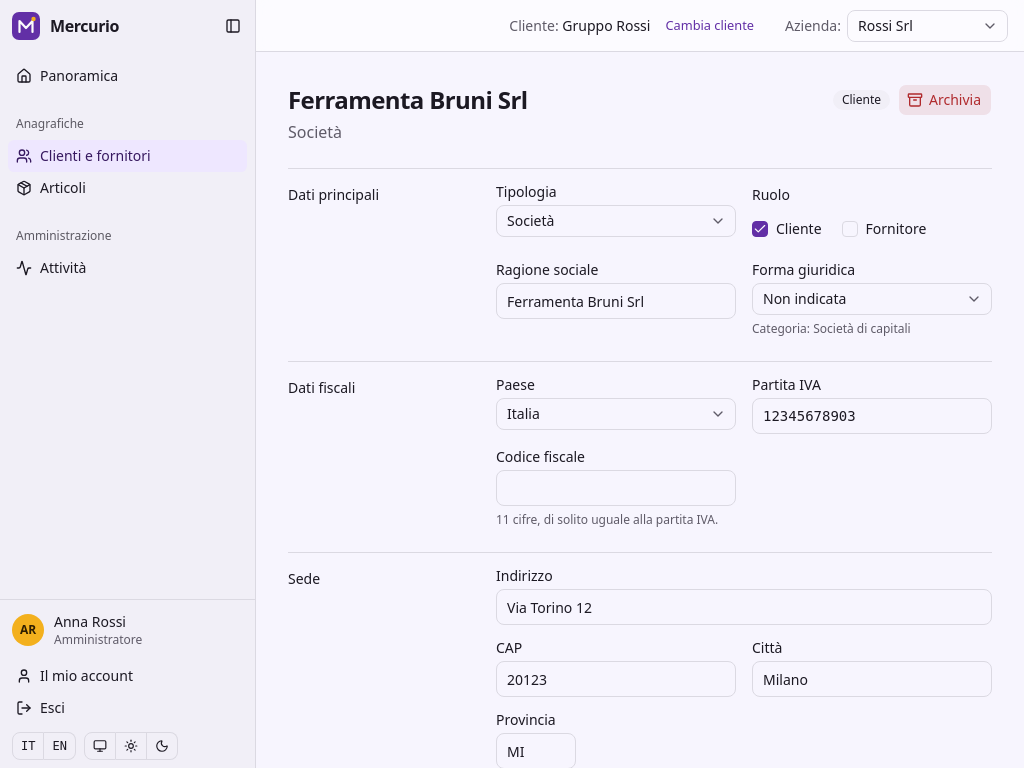
Test: party record › reports a conflicting edit and reloads the latest version on request
Replace the text in the field labelled "Città" with "Bergamo" at (872, 679), box [752,661,992,697]
(page scrolled)
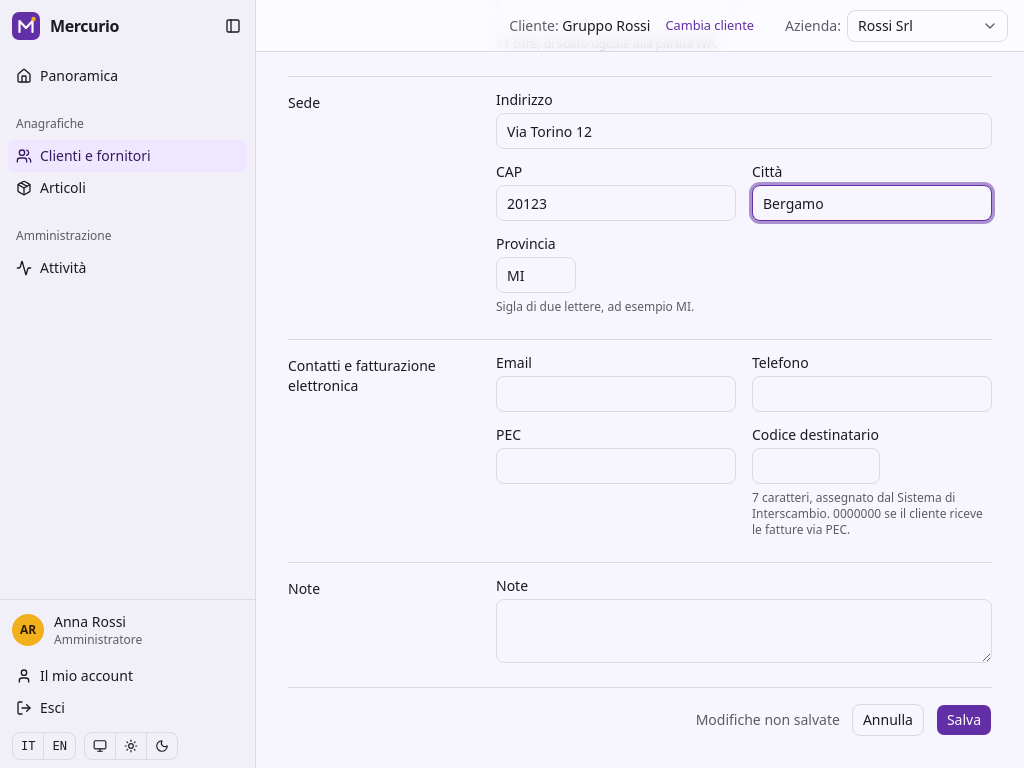
Click the button "Salva" at (964, 720), box [936,704,992,736]
(page scrolled)
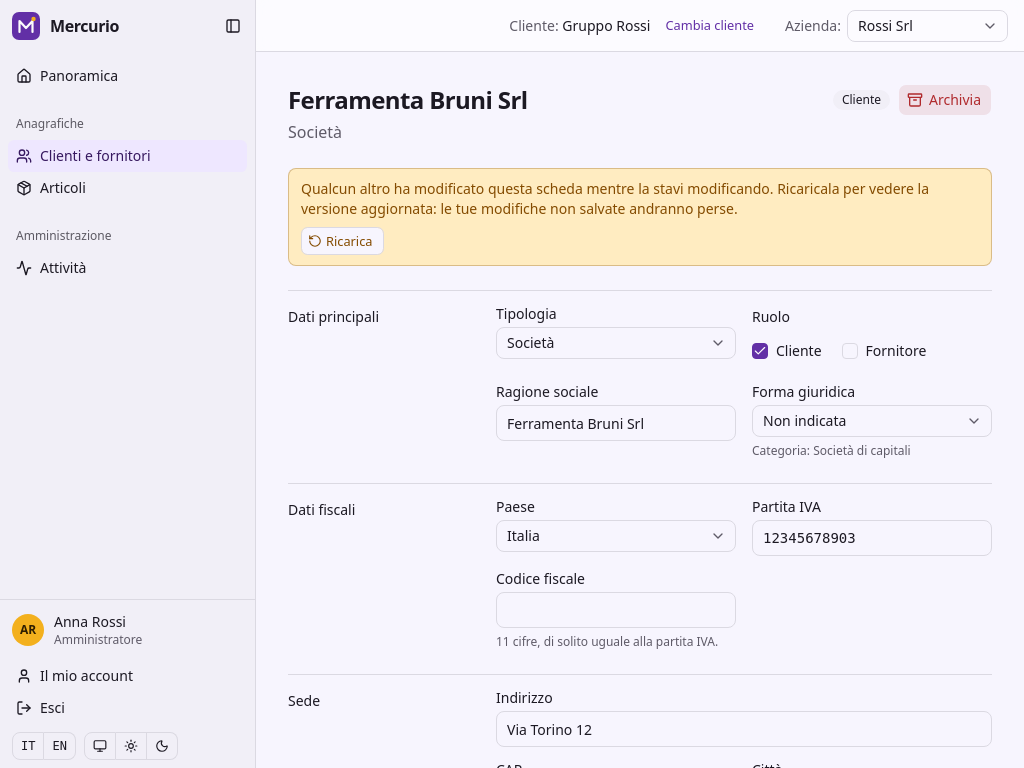
Check: the text "Qualcun altro ha modificato" is shown, box [301,179,929,218]
Click the button "Ricarica" at (342, 241), box [301,227,384,255]
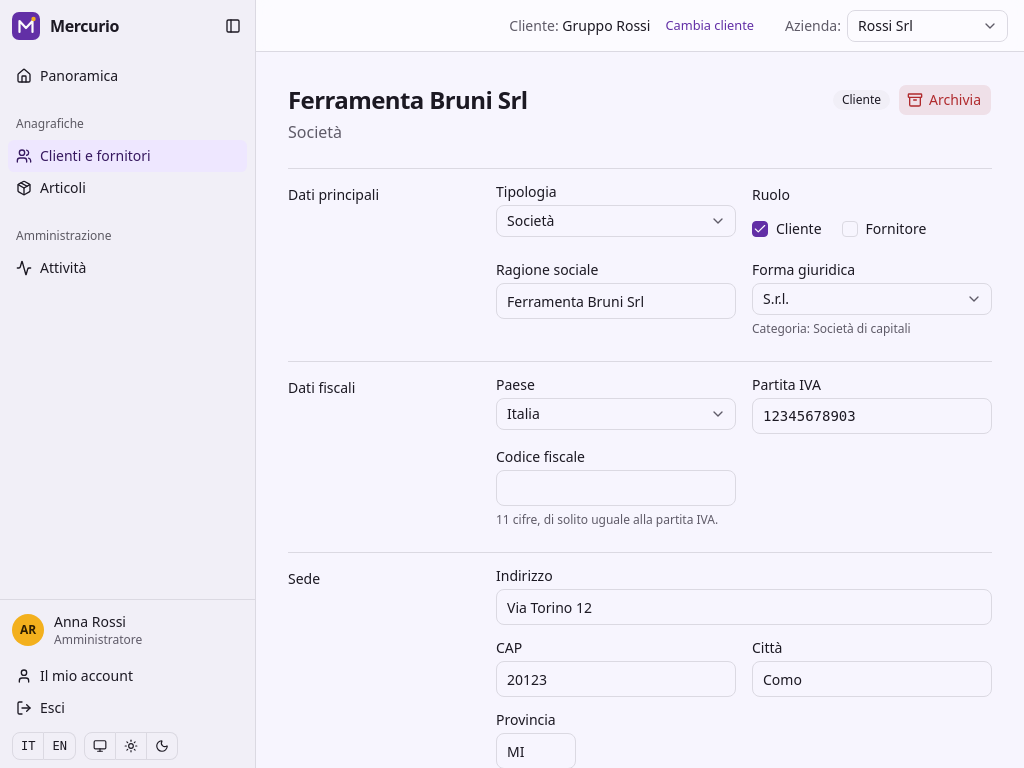
Check: the field labelled "Città" holds "Como", box [752,661,992,697]
Check: the text "Qualcun altro ha modificato" is gone
